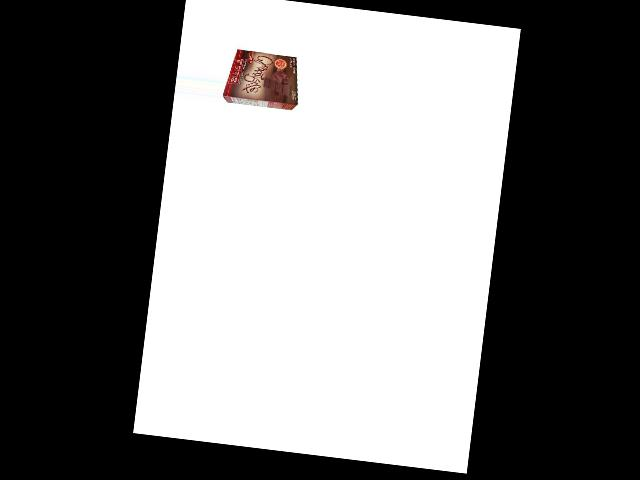chocolate: (224, 47, 303, 110)
